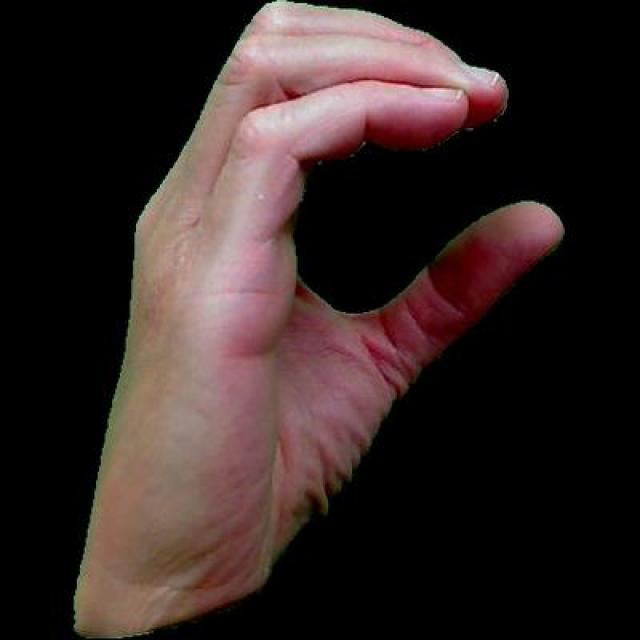c: (48, 0, 573, 637)
